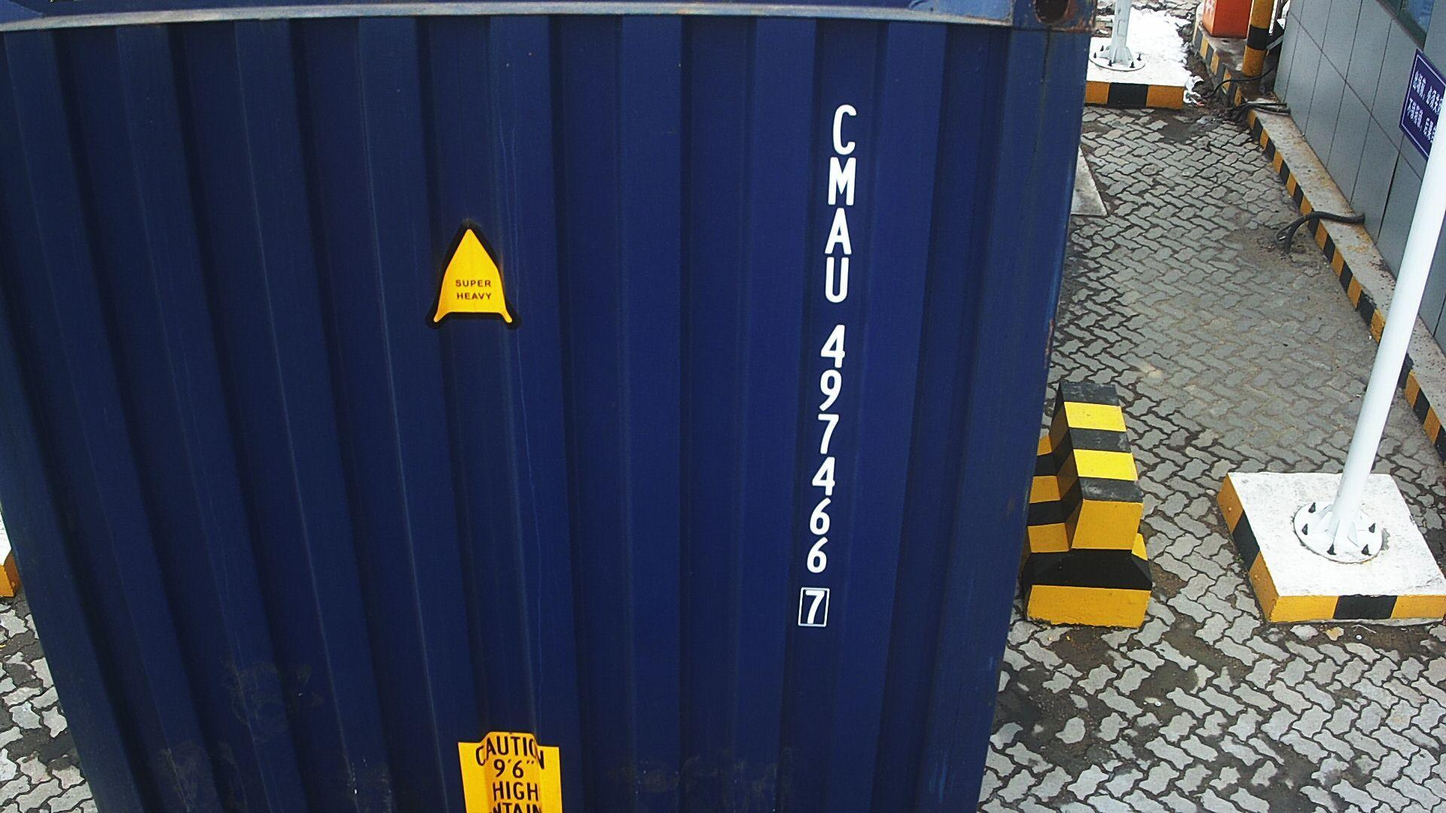container-numbers: (792, 96, 867, 633)
